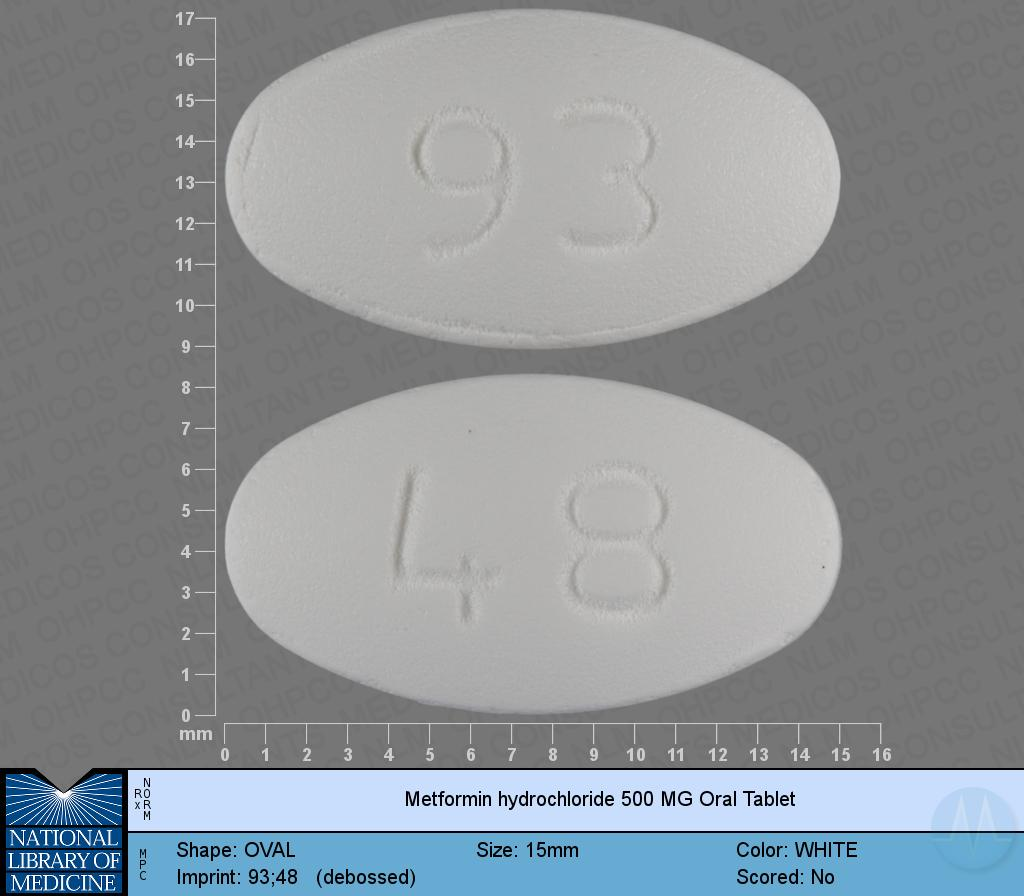Pill: (220, 365, 848, 722), (220, 3, 850, 358)
